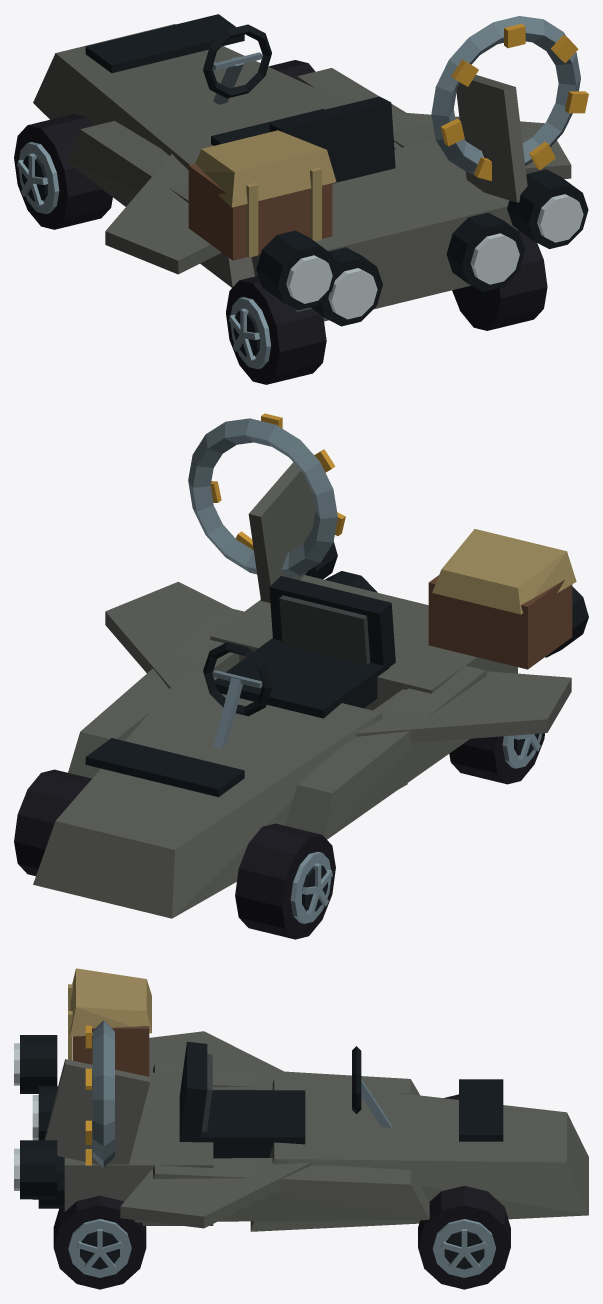
The model's file is kart.glb.
3 renders of one model, top to bottom at view 1: azimuth 30°, elevation 25°; view 2: azimuth 150°, elevation 25°; view 3: azimuth 270°, elevation 25°, orthographic. The views are drawn at different scales.
Parts seen in each view (by area): view 1: identity-shuttle-shuttle-flight-planform, identity-shuttle-motif-treasure, identity-shuttle-driver-cockpit, identity-shuttle-motif-gate-ring, identity-shuttle-motif-thrusters, wheel-rear-left, wheel-front-left, wheel-rear-right, wheel-front-right; view 2: identity-shuttle-shuttle-flight-planform, identity-shuttle-driver-cockpit, identity-shuttle-motif-treasure, identity-shuttle-motif-gate-ring, wheel-front-left, wheel-front-right, wheel-rear-left, identity-shuttle-motif-thrusters; view 3: identity-shuttle-shuttle-flight-planform, identity-shuttle-driver-cockpit, wheel-front-right, wheel-rear-right, identity-shuttle-motif-treasure, identity-shuttle-motif-thrusters, identity-shuttle-motif-gate-ring.
Boxes of the visible parts, bbox=[...] form: identity-shuttle-shuttle-flight-planform: bbox=[33, 14, 571, 326]; identity-shuttle-motif-treasure: bbox=[188, 130, 336, 260]; identity-shuttle-driver-cockpit: bbox=[203, 24, 395, 183]; identity-shuttle-motif-gate-ring: bbox=[431, 16, 588, 180]; identity-shuttle-motif-thrusters: bbox=[256, 169, 588, 310]; wheel-rear-left: bbox=[226, 276, 326, 384]; wheel-front-left: bbox=[14, 114, 112, 229]; wheel-rear-right: bbox=[452, 229, 547, 330]; wheel-front-right: bbox=[268, 60, 315, 78]; identity-shuttle-shuttle-flight-planform: bbox=[33, 462, 571, 918]; identity-shuttle-driver-cockpit: bbox=[203, 576, 395, 748]; identity-shuttle-motif-treasure: bbox=[428, 529, 576, 669]; identity-shuttle-motif-gate-ring: bbox=[188, 413, 345, 577]; wheel-front-left: bbox=[235, 823, 335, 939]; wheel-front-right: bbox=[14, 769, 91, 876]; wheel-rear-left: bbox=[449, 733, 544, 784]; identity-shuttle-motif-thrusters: bbox=[305, 541, 588, 657]; identity-shuttle-shuttle-flight-planform: bbox=[32, 1031, 588, 1231]; identity-shuttle-driver-cockpit: bbox=[179, 1041, 391, 1158]; wheel-front-right: bbox=[418, 1185, 510, 1289]; wheel-rear-right: bbox=[53, 1195, 146, 1289]; identity-shuttle-motif-treasure: bbox=[68, 968, 151, 1076]; identity-shuttle-motif-thrusters: bbox=[14, 1035, 57, 1199]; identity-shuttle-motif-gate-ring: bbox=[85, 1020, 114, 1167].
Bounding box in the file's own units: 2.36 × 1.52 × 3.09.
